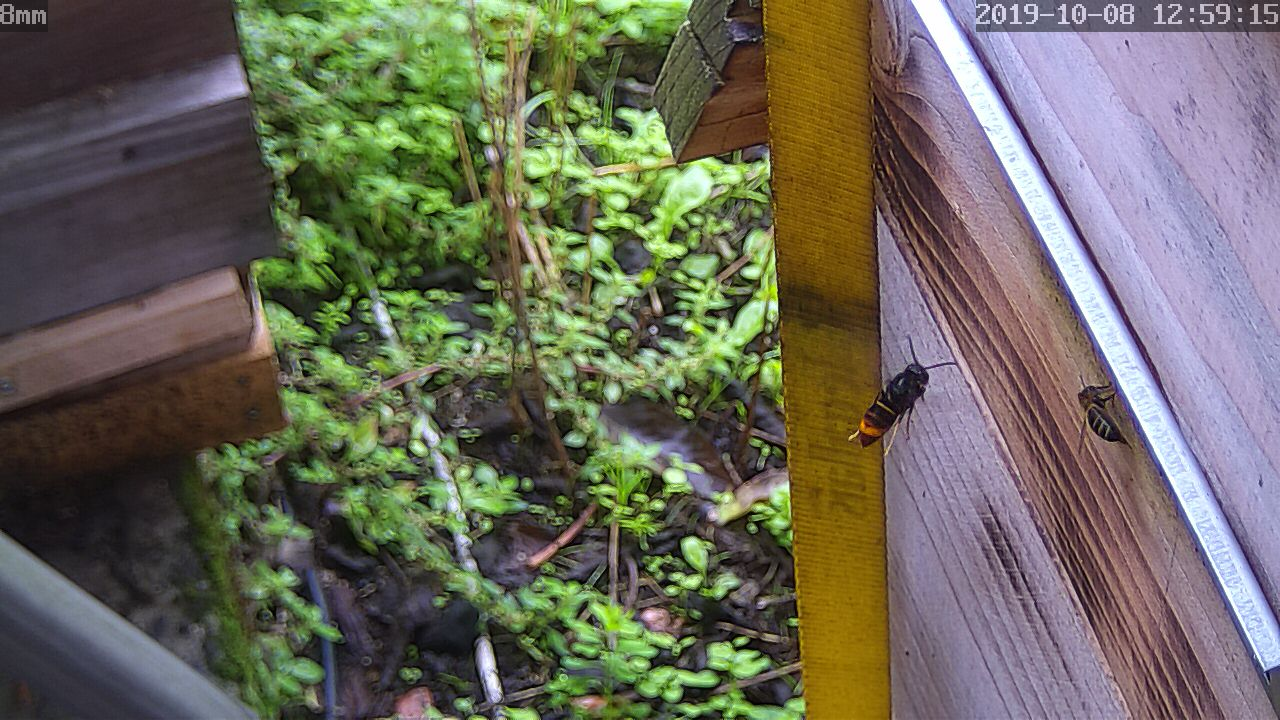bee: (1061, 370, 1122, 437), (1070, 387, 1118, 450)
hornet: (864, 348, 930, 456)
